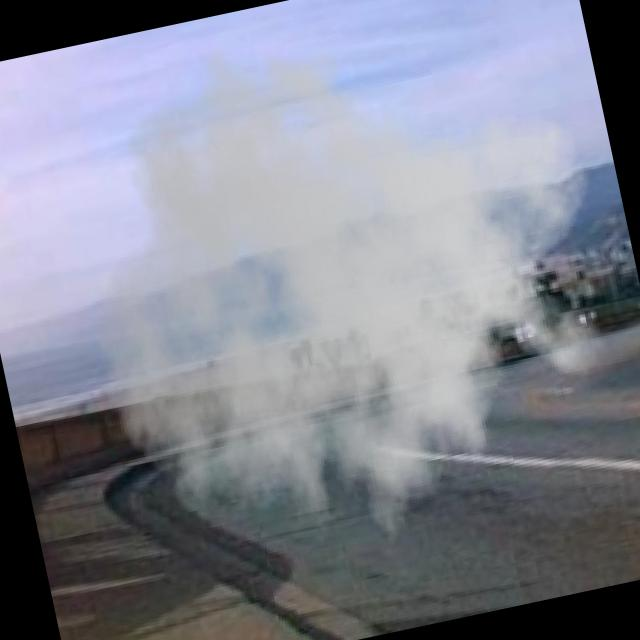Smoke: (37, 0, 640, 618)
